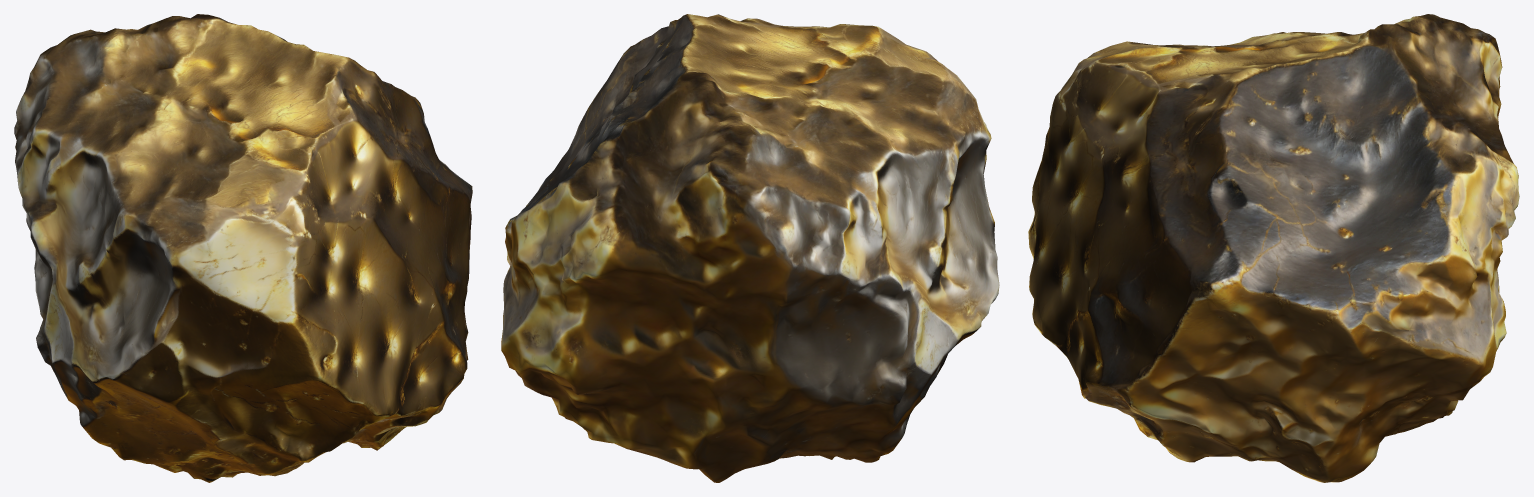
The model's file is comet.glb.
The picture shows the model from 3 angles, left to right: view 1: azimuth 30°, elevation 25°; view 2: azimuth 150°, elevation 25°; view 3: azimuth 270°, elevation 25°; orthographic projection. The views are drawn at different scales.
Bounding box in the file's own units: 1.82 × 1.83 × 2.
1 material, 1 textured.
